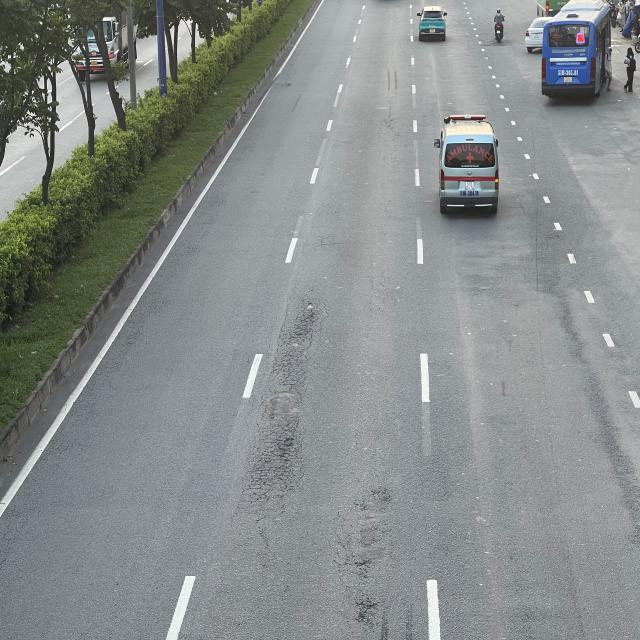car: (417, 6, 448, 40), (524, 17, 545, 52)
coach: (540, 2, 610, 100)
van: (438, 114, 503, 214)
